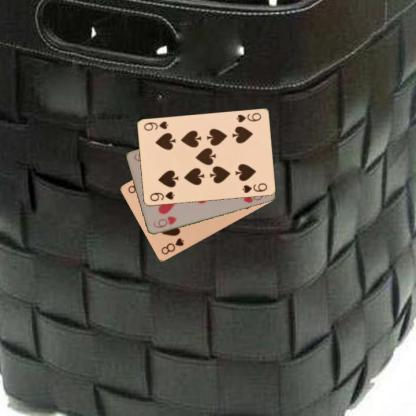6h: (150, 214, 178, 229)
8s: (158, 236, 185, 256)
9s: (147, 189, 176, 203), (233, 110, 262, 124)
